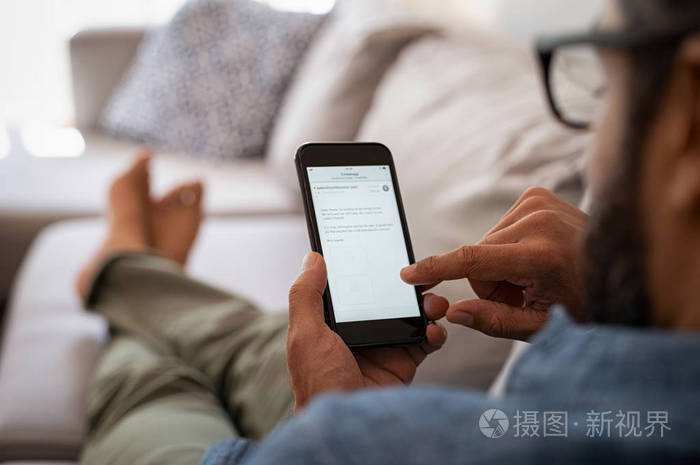reading: (278, 129, 448, 401)
